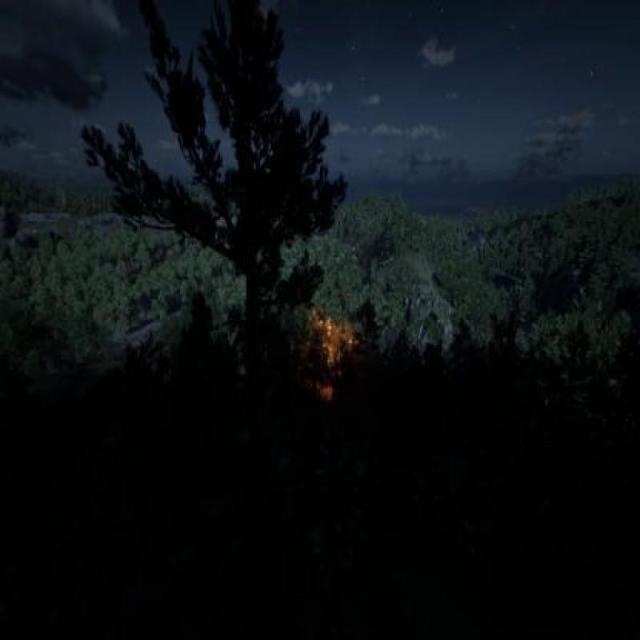Fire: (309, 284, 356, 408)
